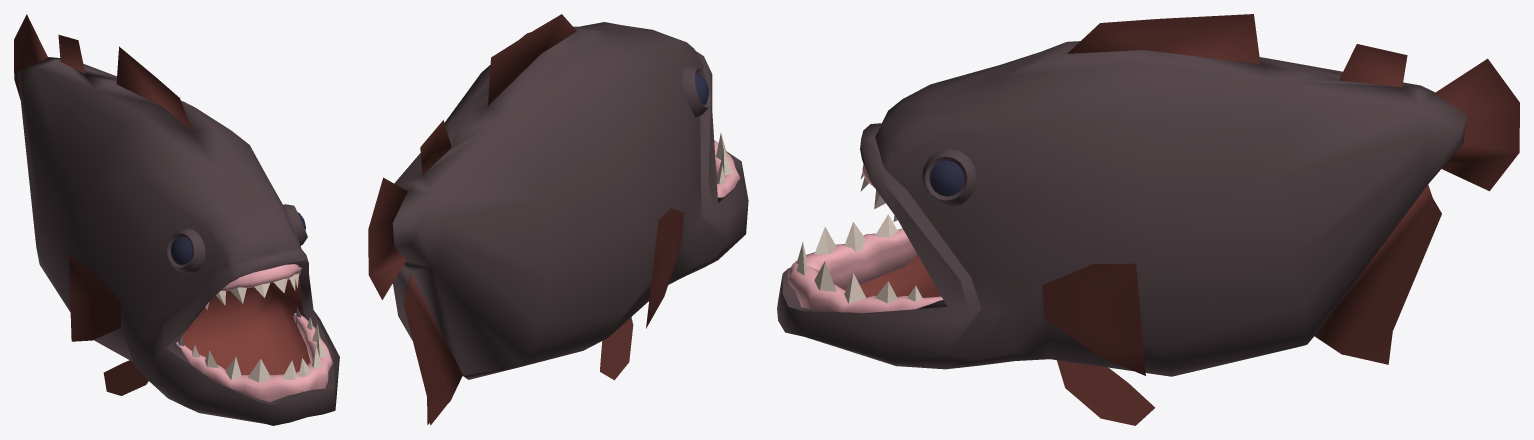
Rendered from Pirahna.fbx.
3 views of the same model, side by side, from view 1: azimuth 30°, elevation 25°; view 2: azimuth 150°, elevation 25°; view 3: azimuth 270°, elevation 25° (orthographic). The views are drawn at different scales.
Visible parts, largest first — view 1: Grouper.001; view 2: Grouper.001; view 3: Grouper.001.
Part boxes in pixels (x1,y1,x2,y2): Grouper.001: (14,14,339,425); Grouper.001: (368,14,748,425); Grouper.001: (777,14,1519,425).
Bounding box in the file's own units: 43.39 × 63.43 × 114.
